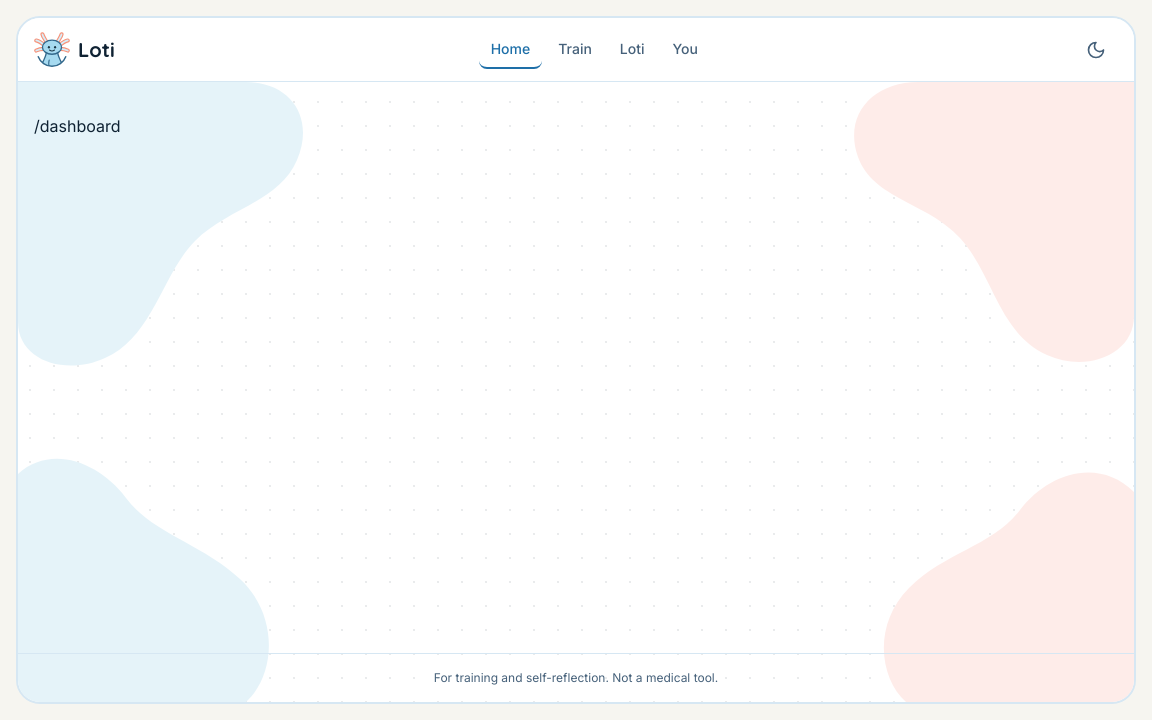
App shell (ticket 09a) › the header holds the logo, the nav and the theme toggle only
What coordinates should you click on to do the following:
click the button named "Switch to Dark (Night Lab)"
I would click on:
 (1096, 50)
Its box is [1074,28,1118,72].
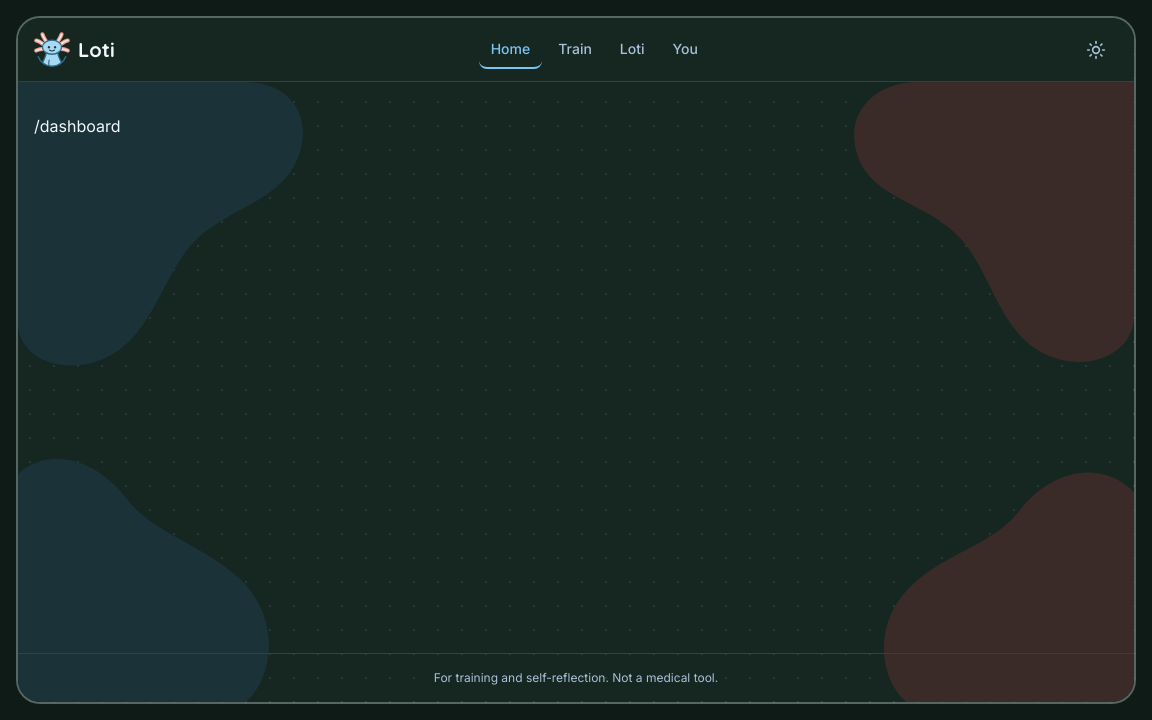
expect the button named "Switch to Light (Playful Lab)" is shown: met, box [1074,28,1118,72]
